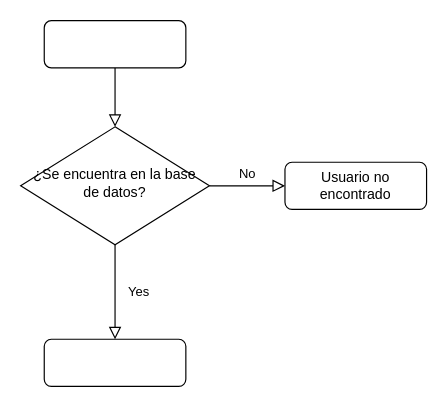
This 447x407 diagram has some shape labels left out. Here are the shapes that lost their labels. From the top down, the centre of each, then its label:
At (114,43): "ingresar email y contraseña".
At (114,362): "Usuario Encontrado".
